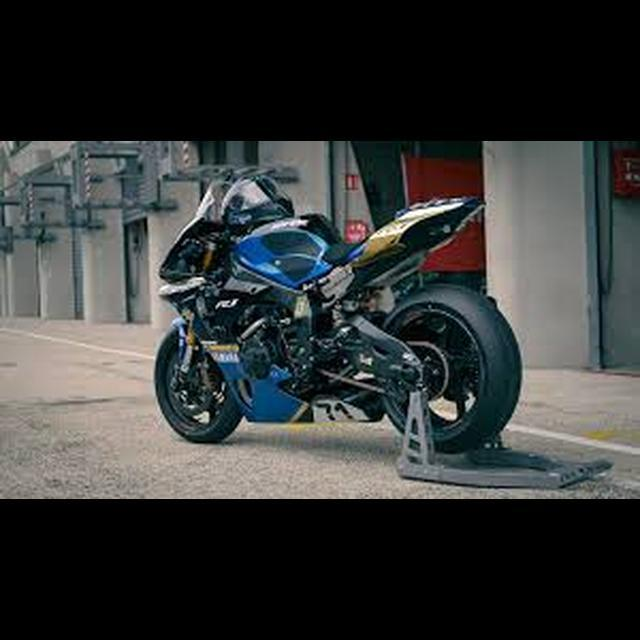motorcycle: (153, 173, 527, 460)
